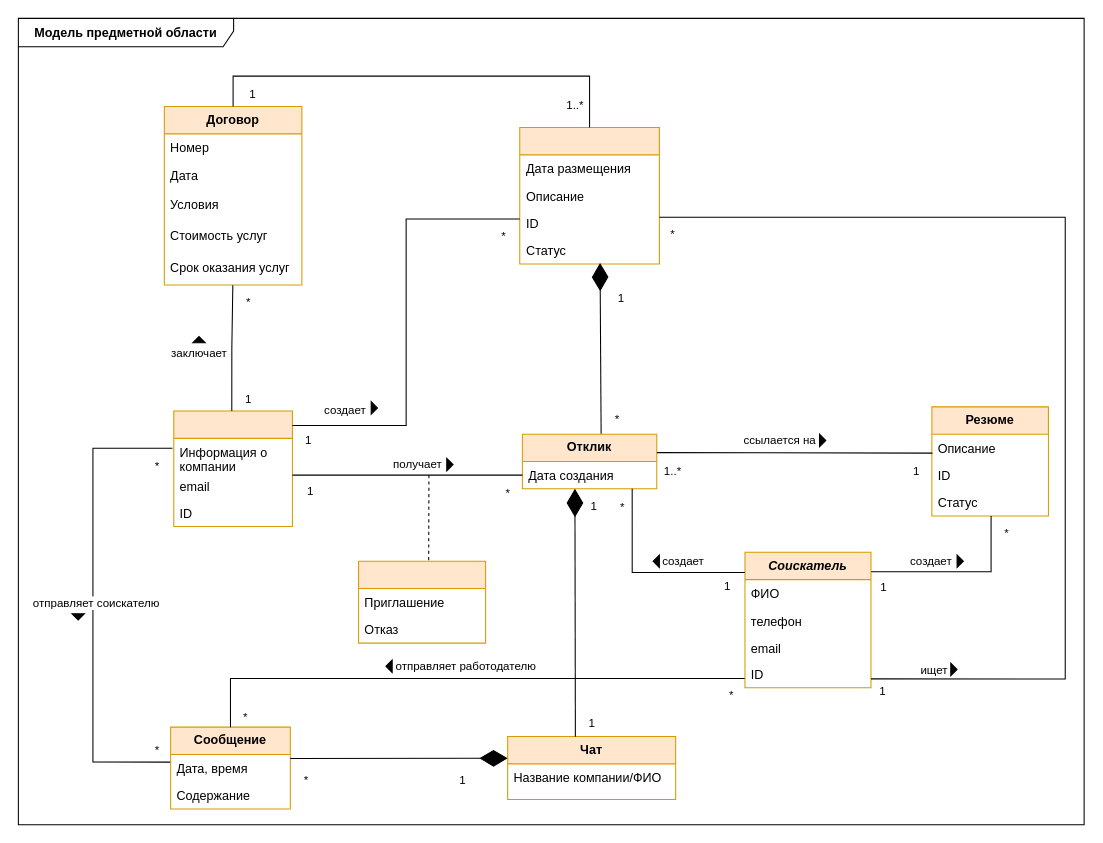
Some shapes in this 1103 by 843 pixel diagram are drawn without their labels. The shapes that lost their labels are listed below. From the top down, each one's box as (x1, y1, x2, y2) in pixels, then its label:
(519, 127, 659, 264): Вакансия
(173, 410, 292, 527): Работодатель
(358, 560, 486, 643): "enumeration" Статус отклика
